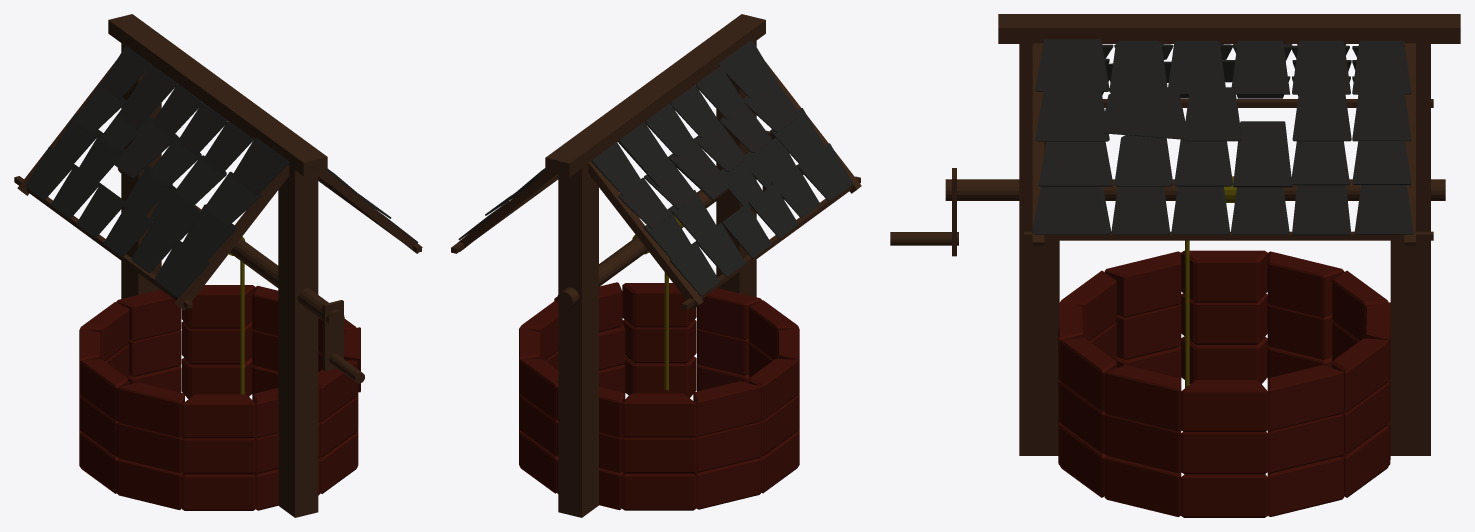
The model's file is well.fbx.
The picture shows the model from 3 angles, left to right: view 1: azimuth 30°, elevation 25°; view 2: azimuth 150°, elevation 25°; view 3: azimuth 270°, elevation 25°; orthographic projection. The views are drawn at different scales.
Visible parts, largest first — view 1: Cube.038, Cube.046, Cube.035, Cube.034, Cube.012, Cube.023, Cube.026, Cube.014, Cube.011, Cube.022, Cube.027, Cube.002 (+51 smaller); view 2: Cube.036, Cube.046, Cube.033, Cube.032, Cube.009, Cube.021, Cube.029, Cube.017, Cube.008, Cube.020, Cube.030, Cube.005 (+49 smaller); view 3: Cube.046, Cube.036, Cube.038, Cube.024, Cube.031, Cube.028, Cube.025, Cube, Cube.010, Cube.085, Cube.032, Cube.034 (+50 smaller).
Boxes of the visible parts, <box> form: Cube.038: <box>278,166,318,517</box>; Cube.046: <box>108,14,327,176</box>; Cube.035: <box>182,394,255,438</box>; Cube.034: <box>117,382,184,437</box>; Cube.012: <box>182,474,255,510</box>; Cube.023: <box>182,438,255,474</box>; Cube.026: <box>181,285,255,328</box>; Cube.014: <box>181,321,252,364</box>; Cube.011: <box>117,459,184,509</box>; Cube.022: <box>117,423,183,473</box>; Cube.027: <box>116,289,181,341</box>; Cube.002: <box>181,357,253,398</box>; Cube.036: <box>558,164,598,517</box>; Cube.046: <box>545,14,765,177</box>; Cube.033: <box>622,393,696,437</box>; Cube.032: <box>693,381,761,436</box>; Cube.009: <box>622,473,696,510</box>; Cube.021: <box>622,437,696,473</box>; Cube.029: <box>622,283,696,327</box>; Cube.017: <box>622,319,696,363</box>; Cube.008: <box>693,458,761,509</box>; Cube.020: <box>694,422,761,472</box>; Cube.030: <box>697,288,762,339</box>; Cube.005: <box>624,356,696,397</box>; Cube.046: <box>998,14,1460,43</box>; Cube.036: <box>1390,44,1430,455</box>; Cube.038: <box>1019,44,1059,455</box>; Cube.024: <box>1180,380,1268,431</box>; Cube.031: <box>1180,250,1268,302</box>; Cube.028: <box>1104,365,1181,431</box>; Cube.025: <box>1267,365,1344,431</box>; Cube: <box>1180,474,1268,517</box>; Cube.010: <box>1180,431,1268,474</box>; Cube.085: <box>1101,86,1188,139</box>; Cube.032: <box>1267,251,1344,317</box>; Cube.034: <box>1104,251,1181,317</box>.
Bounding box in the file's own units: 361 × 511 × 617.
